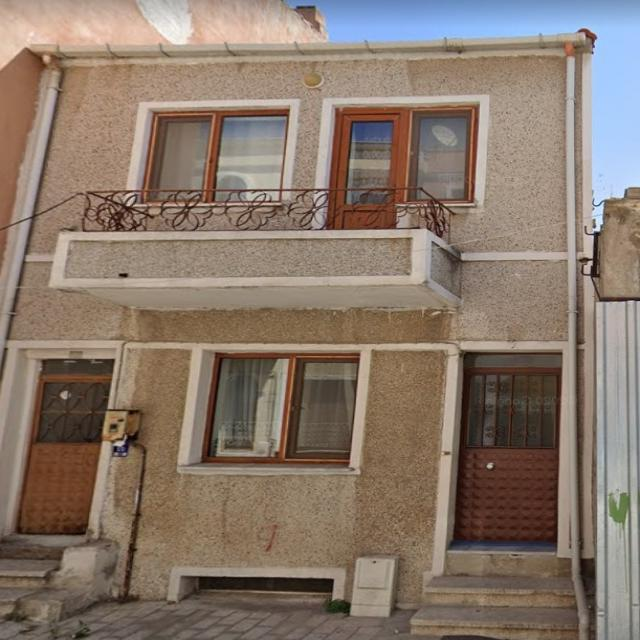Building: (0, 29, 596, 640)
